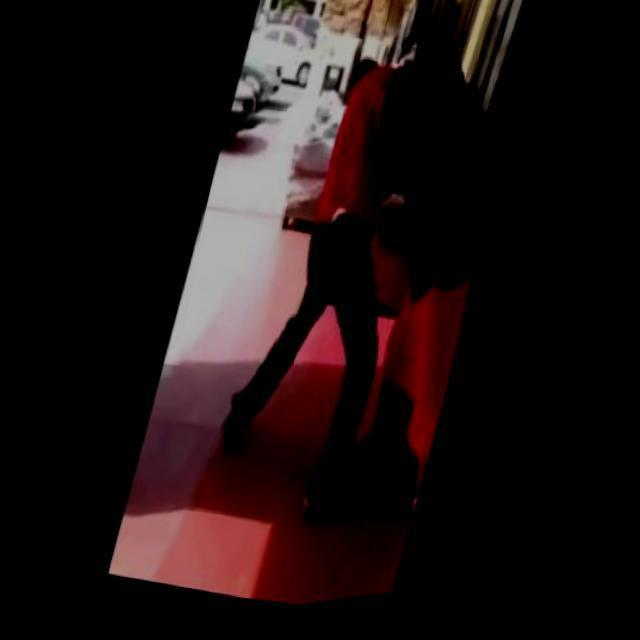fight: (215, 9, 546, 558)
